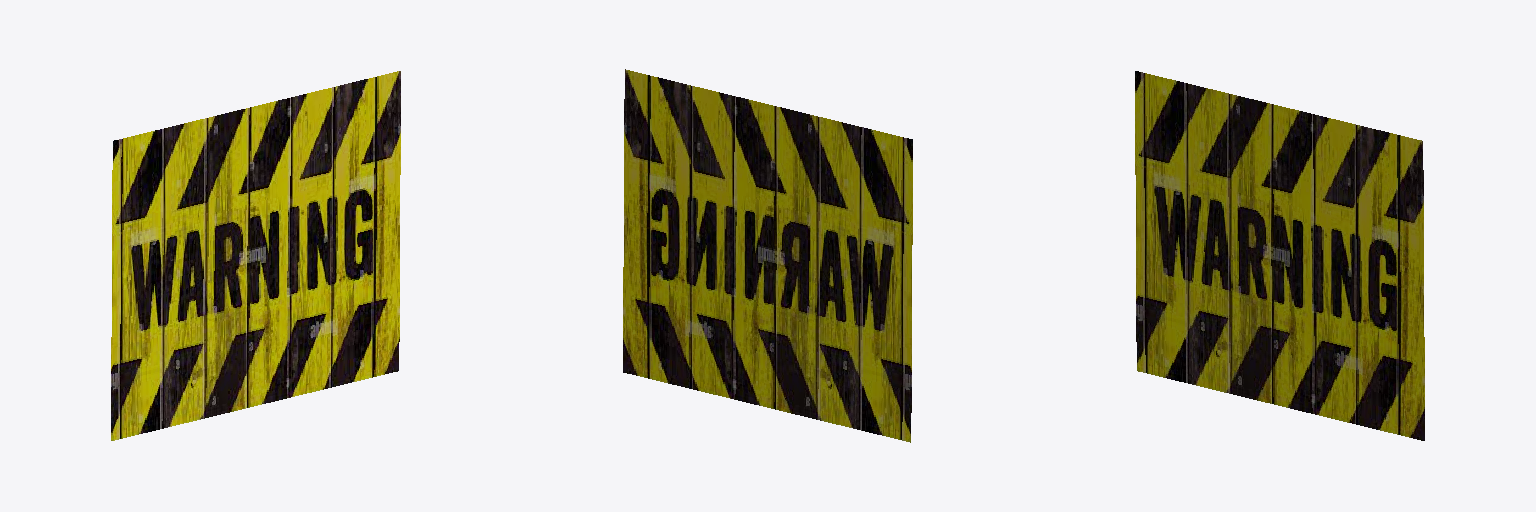
3 renders of one model, left to right at view 1: azimuth 30°, elevation 25°; view 2: azimuth 150°, elevation 25°; view 3: azimuth 330°, elevation 25°, orthographic.
Visible parts, largest first — view 1: Plano; view 2: Plano; view 3: Plano.
Part boxes in pixels (bbox=[...]): Plano: bbox=[111, 71, 400, 440]; Plano: bbox=[623, 69, 912, 442]; Plano: bbox=[1135, 71, 1424, 440].
Bounding box in the file's own units: 2 × 2 × 0.0217.
1 materials, 1 textured.